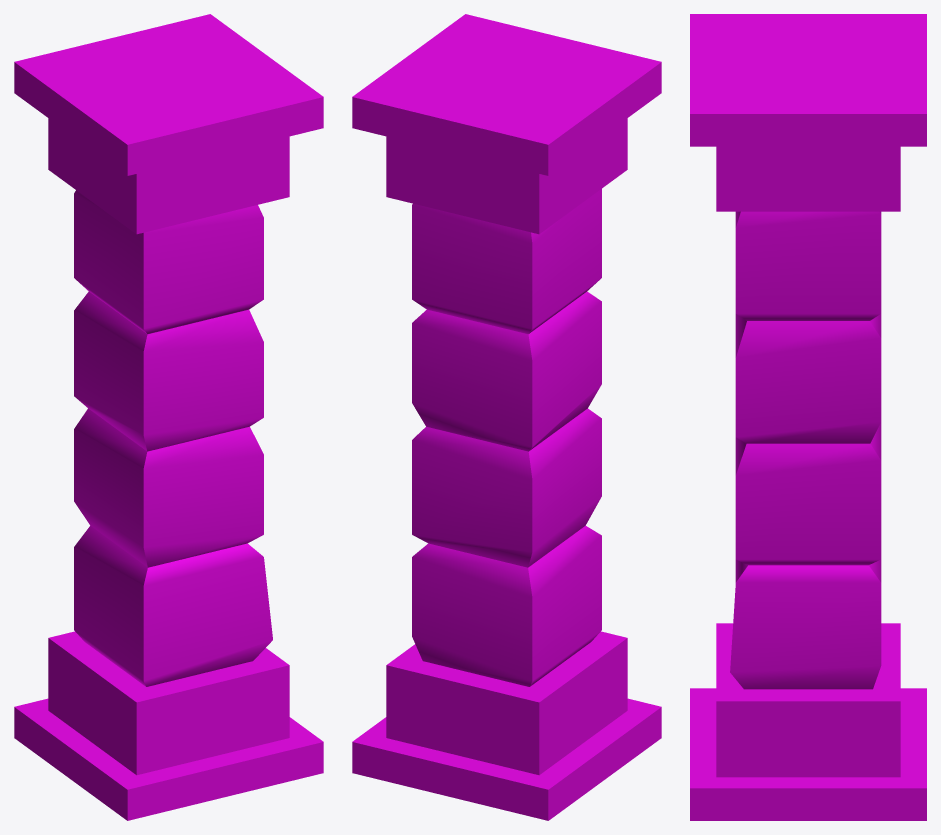
File: m_dungeonpillar.fbx
3 views of the same model, side by side, from view 1: azimuth 30°, elevation 25°; view 2: azimuth 150°, elevation 25°; view 3: azimuth 270°, elevation 25° (orthographic). The views are drawn at different scales.
Visible parts, largest first — view 1: m_dungeonpillar; view 2: m_dungeonpillar; view 3: m_dungeonpillar.
Boxes of the visible parts, x1,y1,x2,y2 form: m_dungeonpillar: (14,14,323,820); m_dungeonpillar: (352,14,661,820); m_dungeonpillar: (690,14,926,820).
Size of the model in its own units: 1.48 by 4.88 by 1.48.
